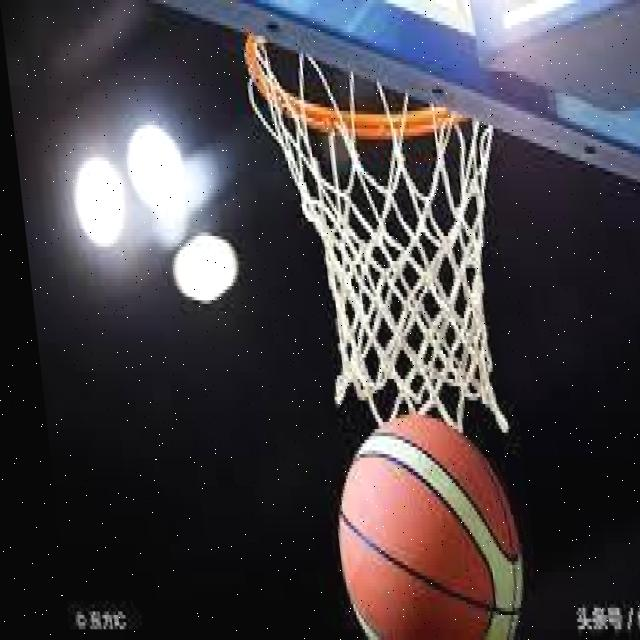basketball: (323, 411, 534, 640)
hoop: (235, 29, 521, 422)
